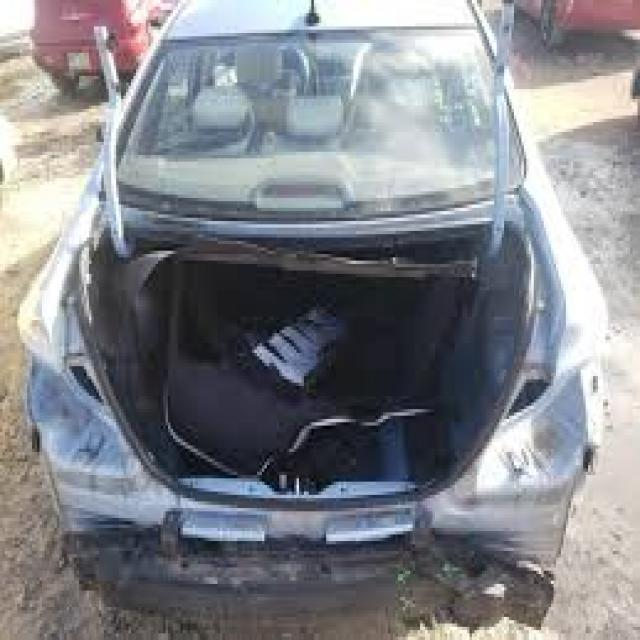damaged-trunk: (81, 212, 533, 526)
